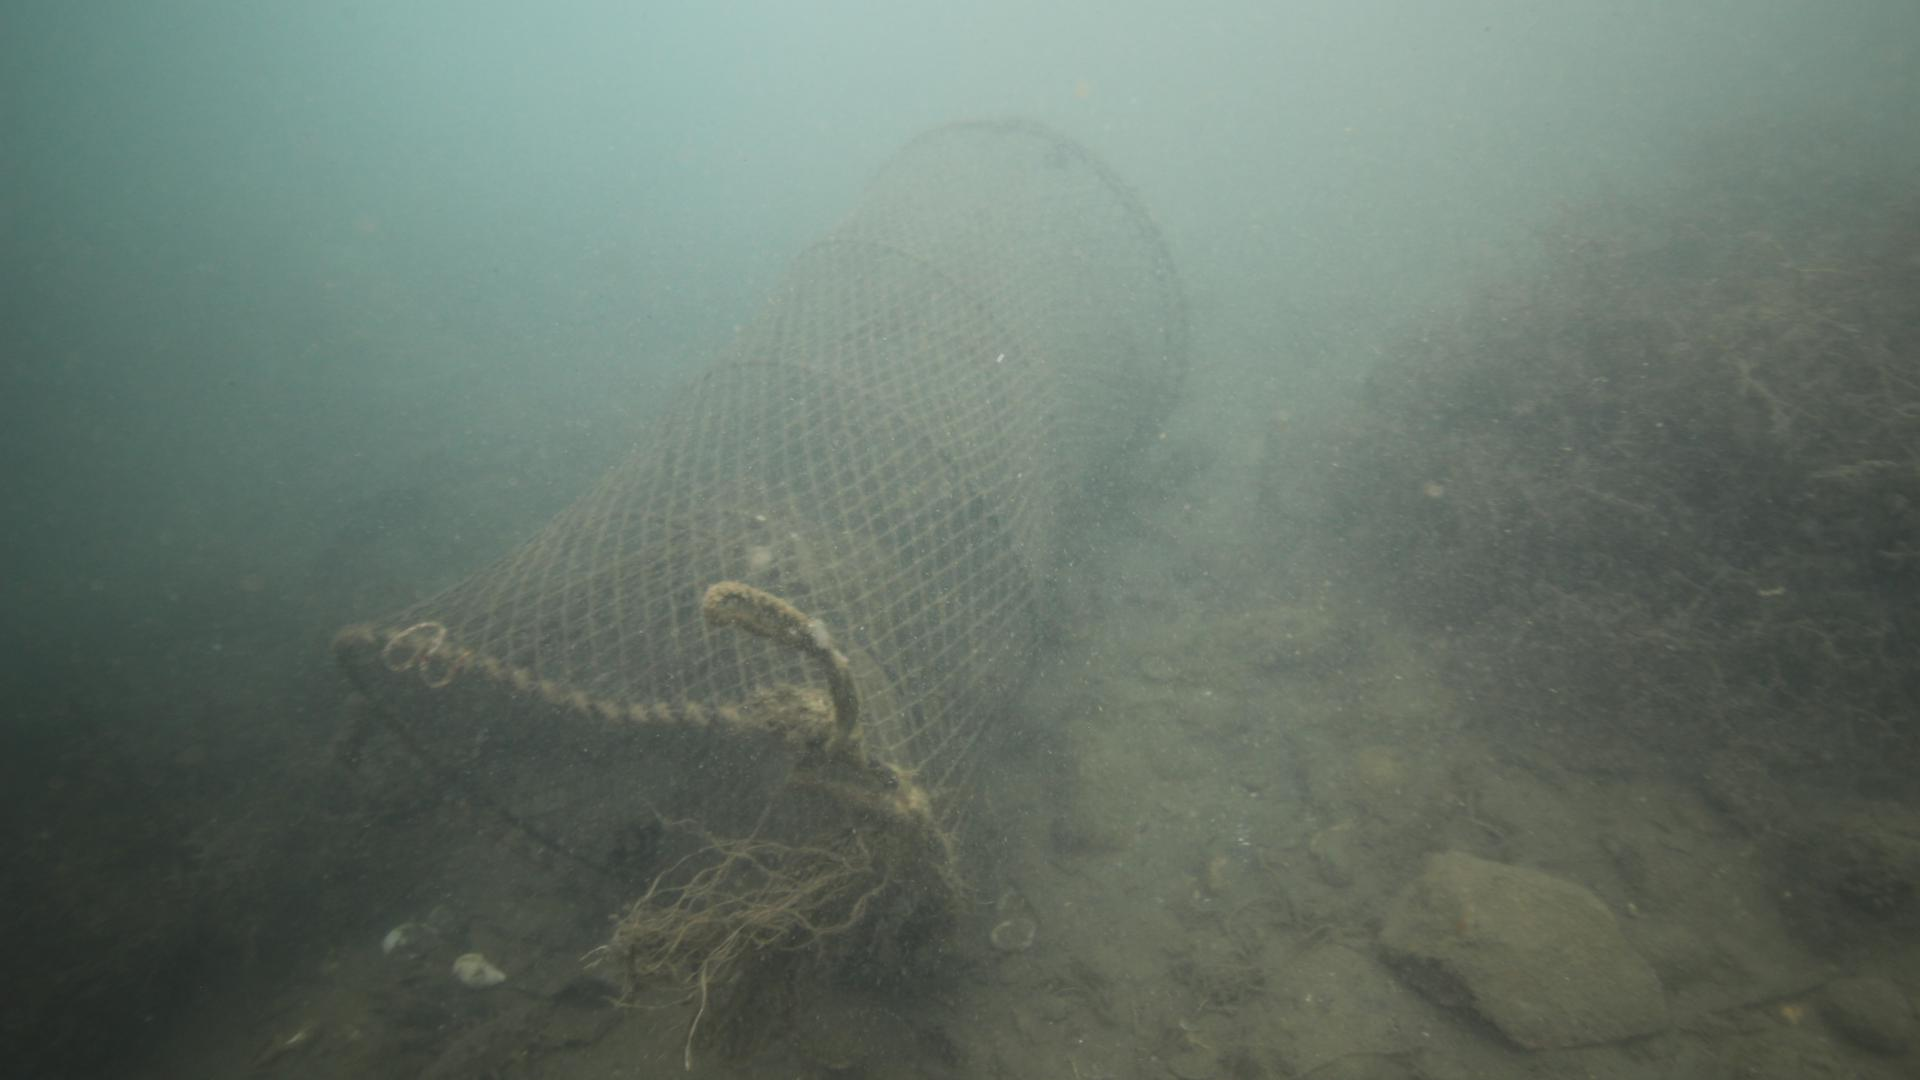bundle of ropes: (699, 578, 862, 757)
spring fish trap: (332, 115, 1197, 985)
